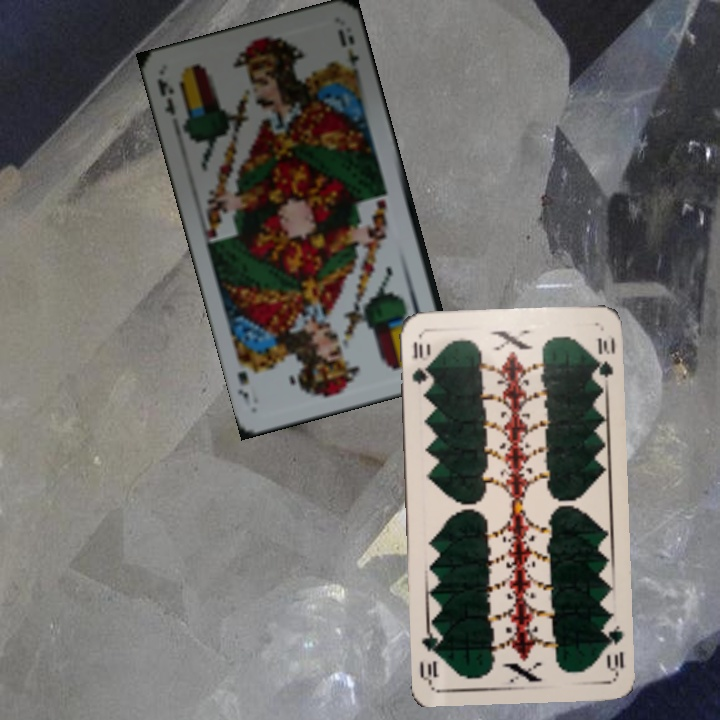EK: (153, 74, 178, 119)
G10: (600, 617, 626, 676), (408, 337, 432, 387)
